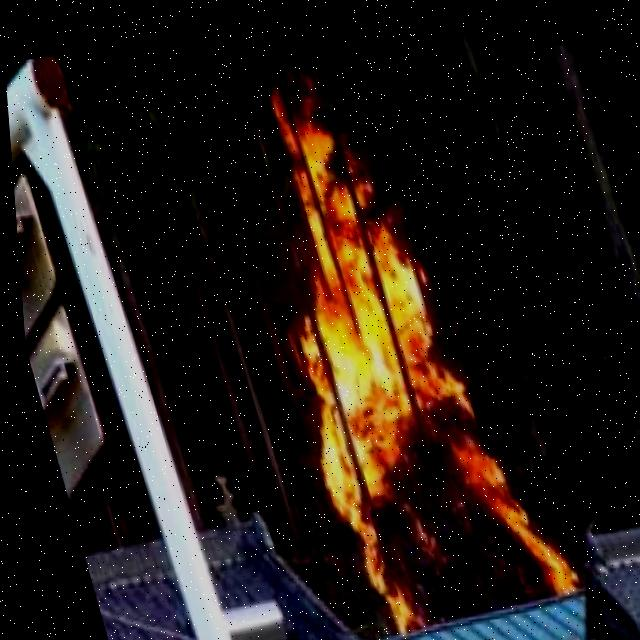Fire: (213, 32, 565, 637)
